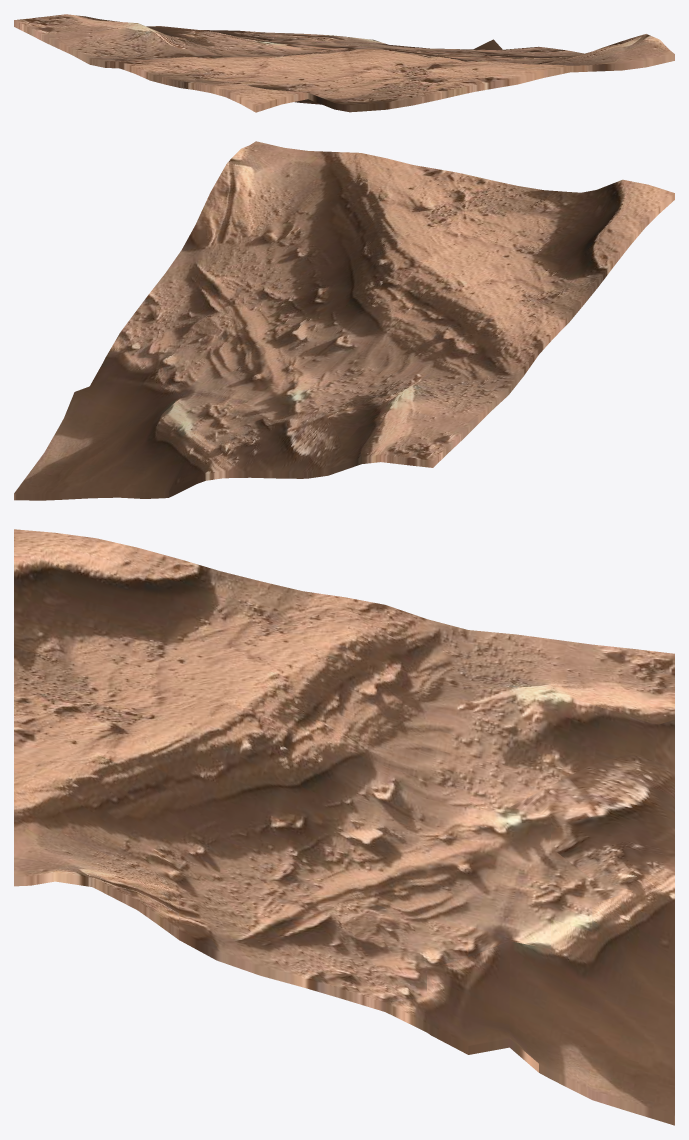
3 renders of one model, top to bottom at view 1: azimuth 30°, elevation 25°; view 2: azimuth 150°, elevation 25°; view 3: azimuth 270°, elevation 25°, orthographic. The views are drawn at different scales.
Size of the model in its own units: 0.5 by 0.2669 by 0.5.
Materials: 1 (1 with a texture image).
